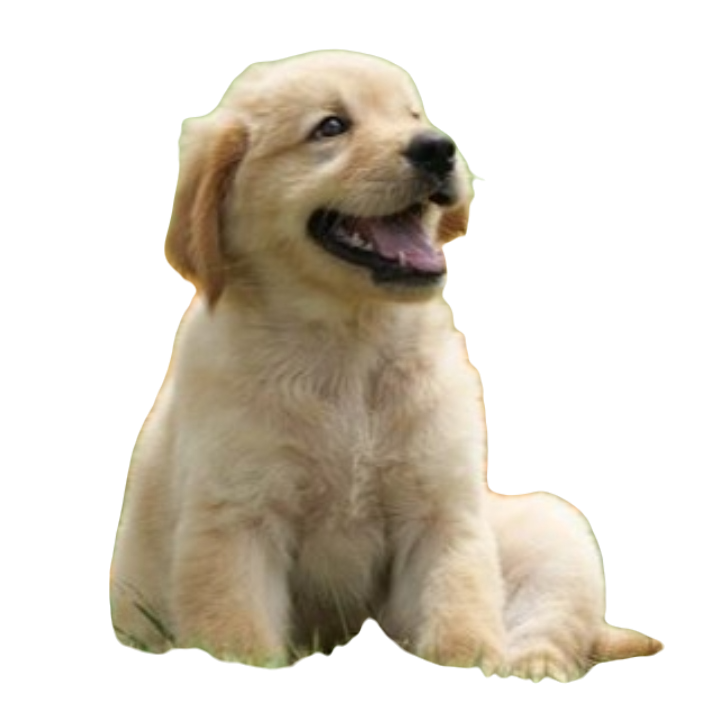Dog: (58, 43, 682, 686)
